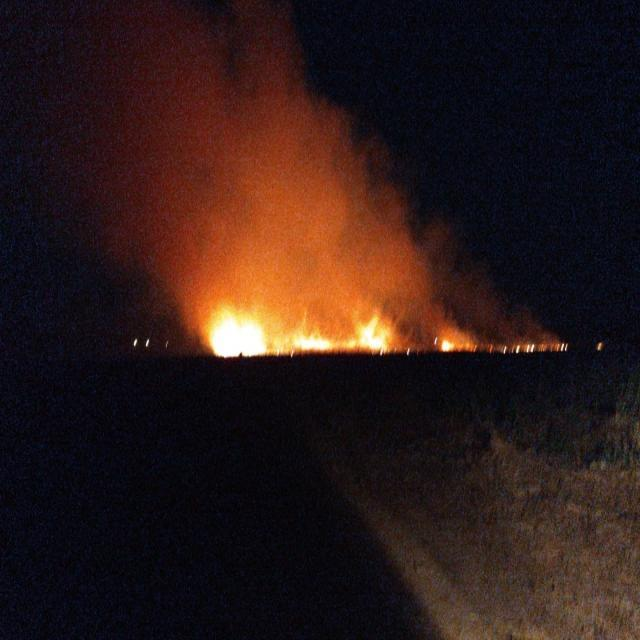Smoke: (79, 4, 512, 313), (207, 312, 490, 353)
